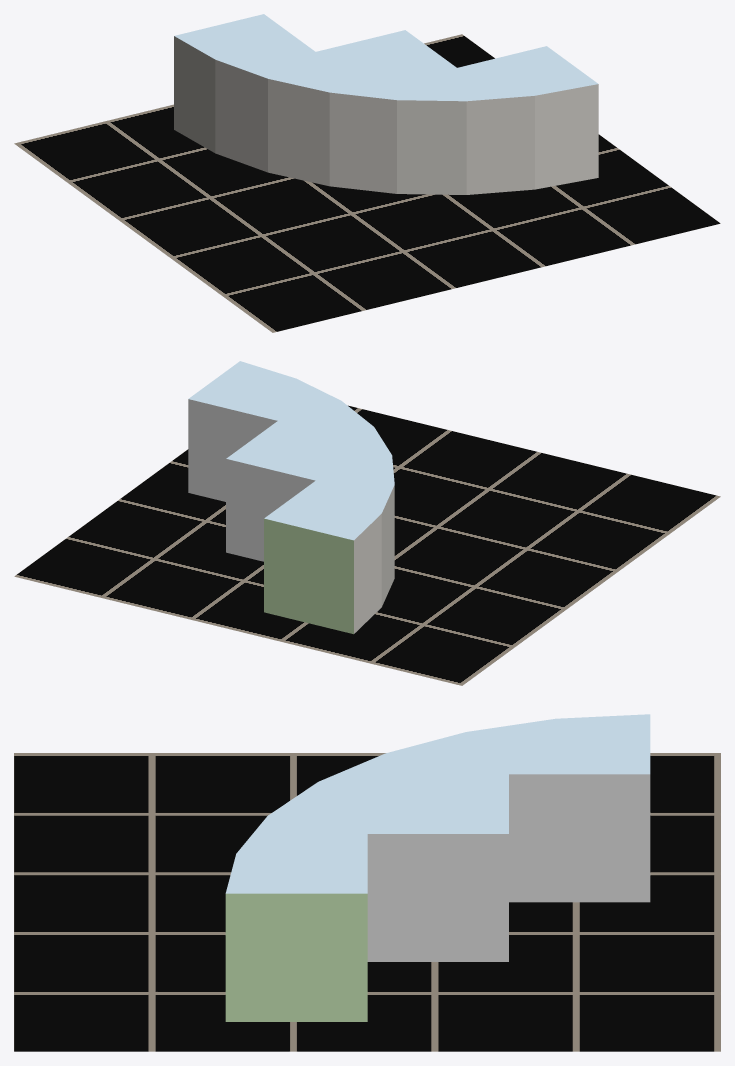
File: Wall_Curve_Outer_4x4_Mid.glb
3 views of the same model, one above another, from view 1: azimuth 30°, elevation 25°; view 2: azimuth 150°, elevation 25°; view 3: azimuth 270°, elevation 25° (orthographic). The views are drawn at different scales.
Visible parts, largest first — view 1: Floor, Wall_Curve_Outer_4x4_Mid; view 2: Floor, Wall_Curve_Outer_4x4_Mid; view 3: Floor, Wall_Curve_Outer_4x4_Mid.
Part boxes in pixels (x1,y1,x2,y2): Floor: (14,34,720,332); Wall_Curve_Outer_4x4_Mid: (174,14,598,194); Floor: (14,405,720,685); Wall_Curve_Outer_4x4_Mid: (188,361,394,634); Floor: (14,753,720,1051); Wall_Curve_Outer_4x4_Mid: (225,714,650,1021).
Size of the model in its own units: 500 by 100 by 500.
5 materials, 1 textured.
